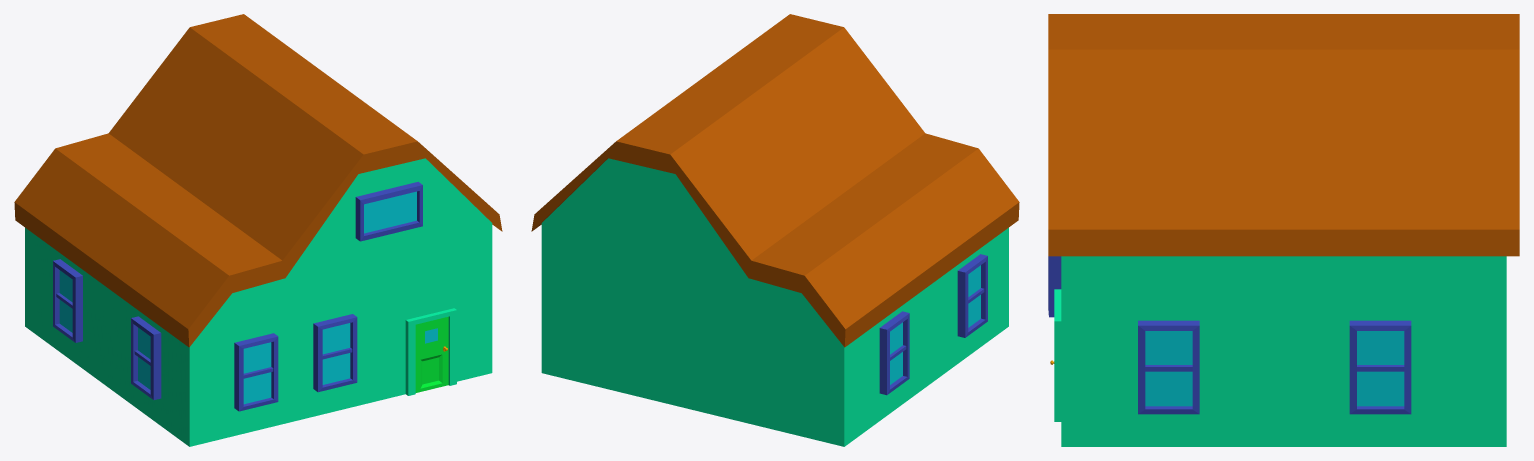
The model's file is Casa10.fbx.
3 views of the same model, side by side, from view 1: azimuth 30°, elevation 25°; view 2: azimuth 150°, elevation 25°; view 3: azimuth 270°, elevation 25° (orthographic). The views are drawn at different scales.
Parts seen in each view (by area): view 1: Casa10; view 2: Casa10; view 3: Casa10.
Part boxes in pixels (left/top/right/bottom): Casa10: left=14, top=14, right=502, bottom=446; Casa10: left=531, top=14, right=1019, bottom=446; Casa10: left=1048, top=14, right=1519, bottom=446.
Bounding box in the file's own units: 1017 × 777 × 962.
